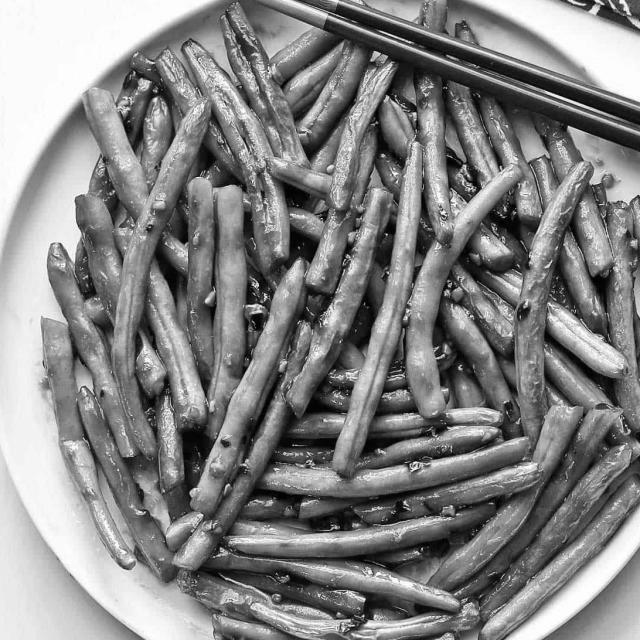Beans: (50, 1, 639, 639)
